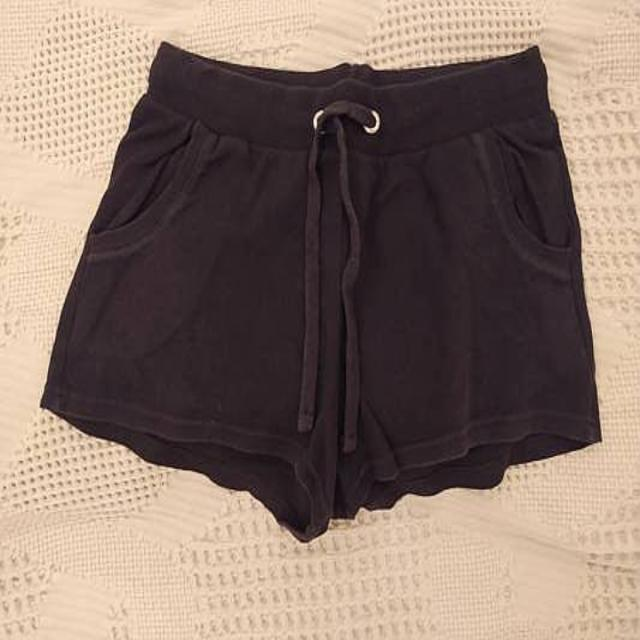SHORT: (29, 33, 622, 540)
